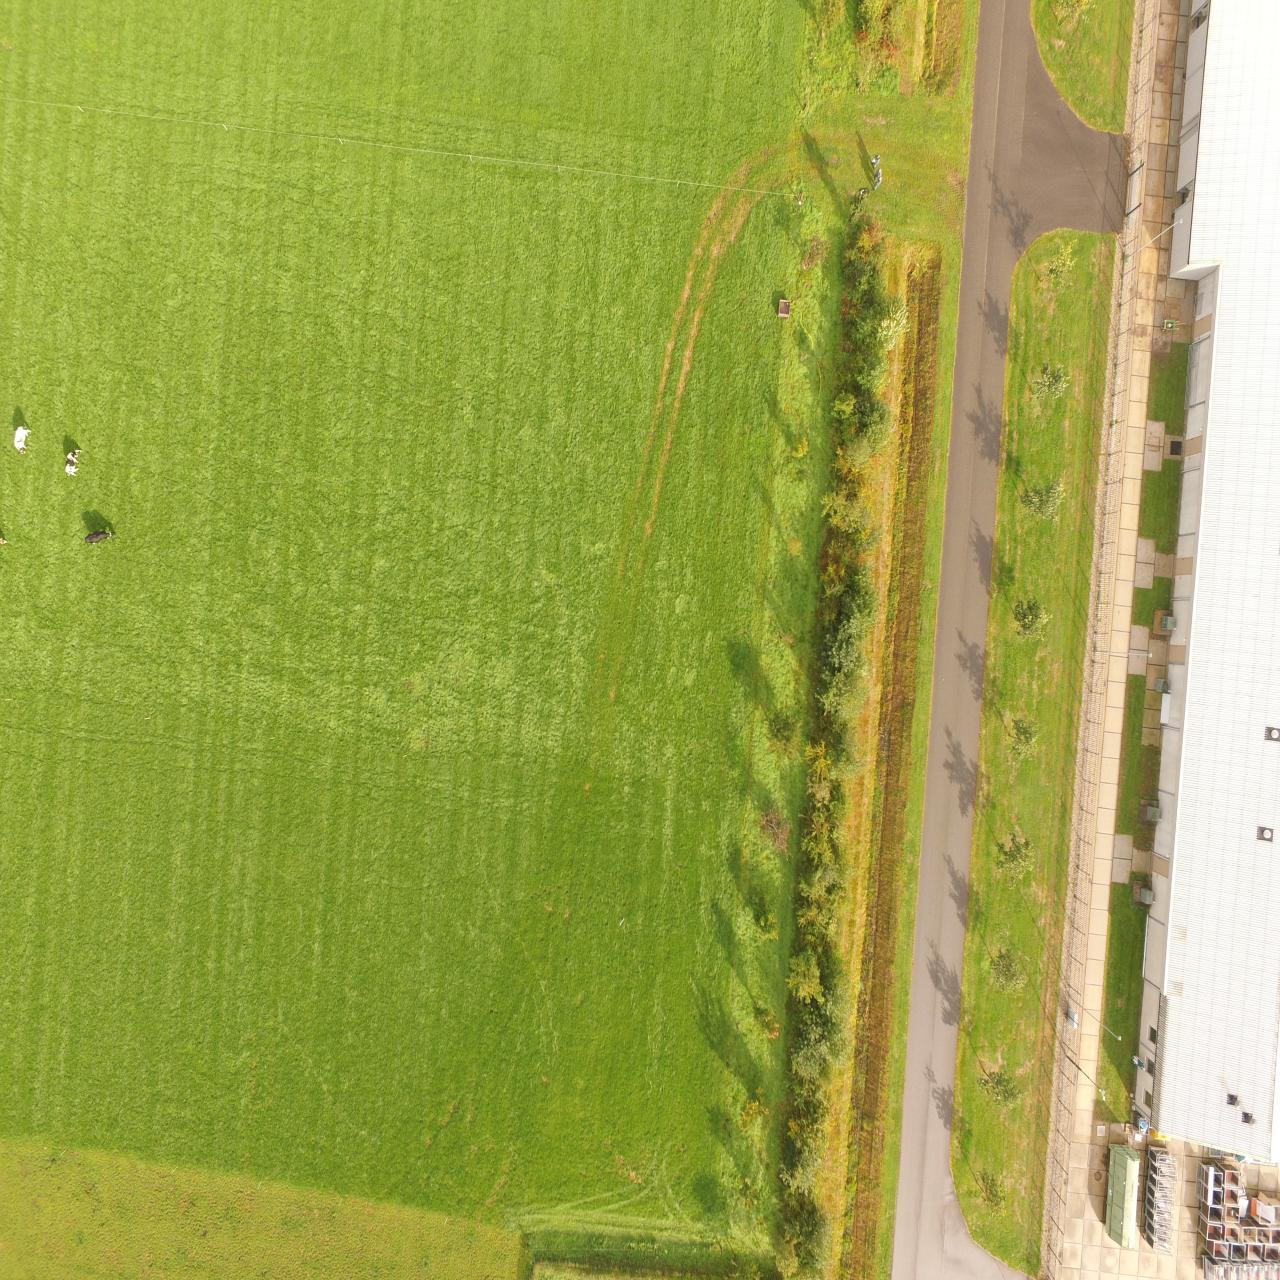cow: (13, 424, 30, 455), (86, 530, 117, 545), (66, 448, 82, 476)
